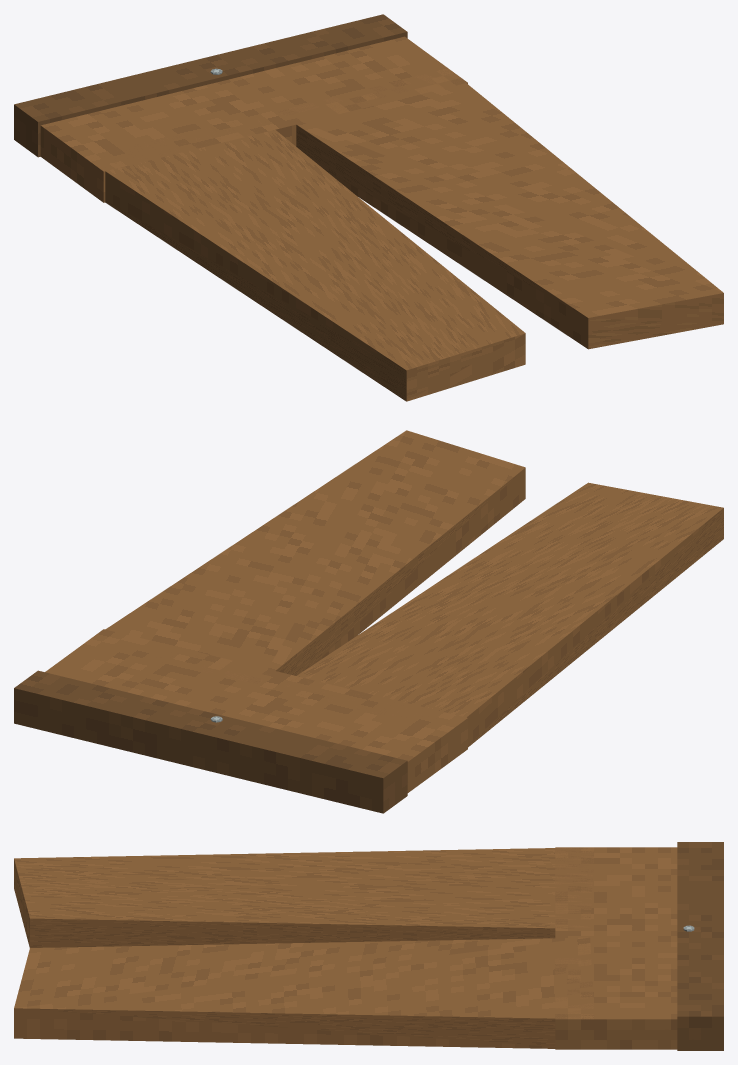
The model's file is pants_faux_fur.glb.
3 renders of one model, top to bottom at view 1: azimuth 30°, elevation 25°; view 2: azimuth 150°, elevation 25°; view 3: azimuth 270°, elevation 25°, orthographic. The views are drawn at different scales.
Visible parts, largest first — view 1: block_leg 1, block_leg -1, block_seat, block_waistband; view 2: block_leg -1, block_leg 1, block_seat, block_waistband; view 3: block_leg 1, block_leg -1, block_seat, block_waistband.
Part boxes in pixels (<box>): block_leg 1: <box>278,68,723,349</box>; block_leg -1: <box>86,118,525,401</box>; block_seat: <box>40,36,467,202</box>; block_waistband: <box>14,14,407,157</box>; block_leg -1: <box>278,482,723,747</box>; block_leg 1: <box>105,430,525,683</box>; block_seat: <box>45,629,467,792</box>; block_waistband: <box>14,670,407,813</box>; block_leg 1: <box>14,937,593,1048</box>; block_leg -1: <box>14,847,594,947</box>; block_seat: <box>555,847,677,1049</box>; block_waistband: <box>677,842,723,1050</box>.
Bounding box in the file's own units: 0.2171 × 0.0206 × 0.373.
1 material, 1 textured.
